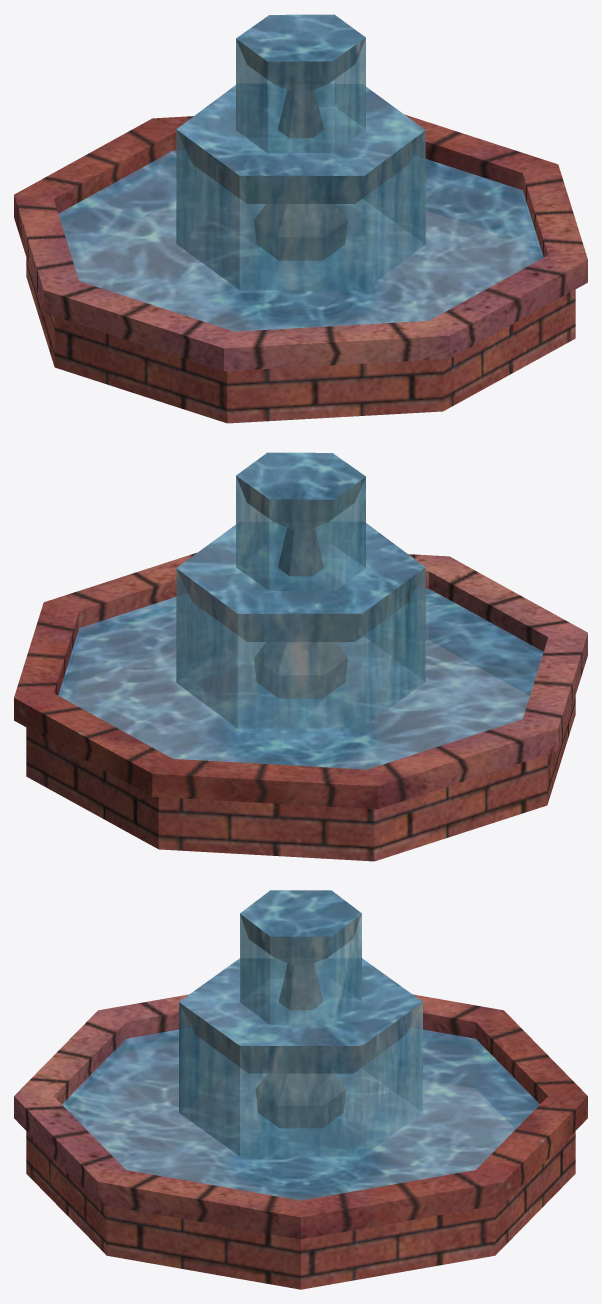
Rendered from fountain.fbx.
The picture shows the model from 3 angles, top to bottom: view 1: azimuth 30°, elevation 25°; view 2: azimuth 150°, elevation 25°; view 3: azimuth 270°, elevation 25°; orthographic projection. The views are drawn at different scales.
Parts seen in each view (by area): view 1: fountain, fountain_water, fountain_waterfall; view 2: fountain, fountain_water, fountain_waterfall; view 3: fountain, fountain_water, fountain_waterfall.
Part boxes in pixels (box(x1,y1,x2,y2)): fountain: box(14, 15, 587, 423); fountain_water: box(58, 14, 543, 331); fountain_waterfall: box(176, 38, 425, 290); fountain: box(14, 453, 587, 861); fountain_water: box(58, 452, 543, 769); fountain_waterfall: box(176, 476, 425, 728); fountain: box(14, 890, 587, 1289); fountain_water: box(62, 890, 539, 1200); fountain_waterfall: box(179, 914, 422, 1156).
Bounding box in the file's own units: 94 × 47 × 94.
